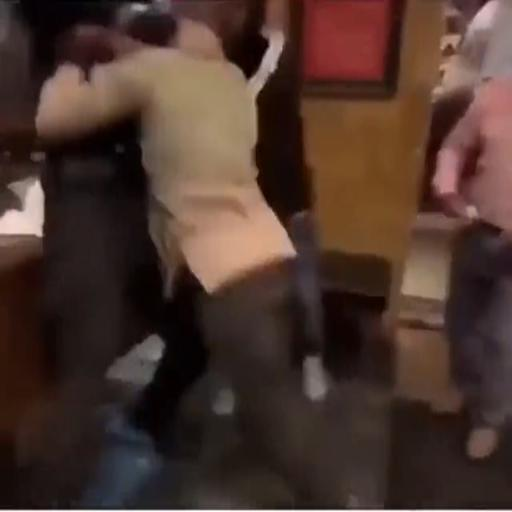violencia: (32, 10, 350, 512)
